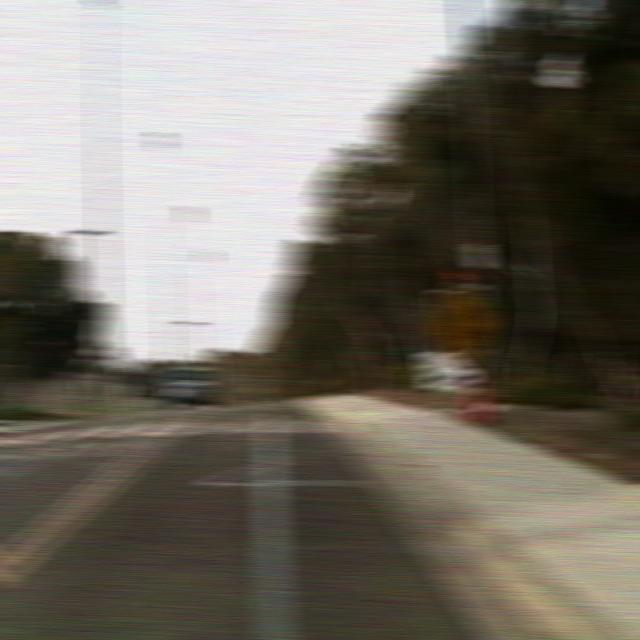pedestrianCrossing: (427, 279, 497, 368)
